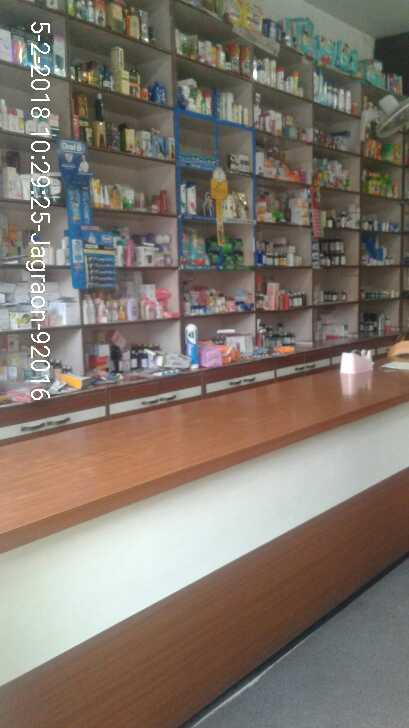vicks: (62, 137, 117, 289), (181, 148, 221, 172)
